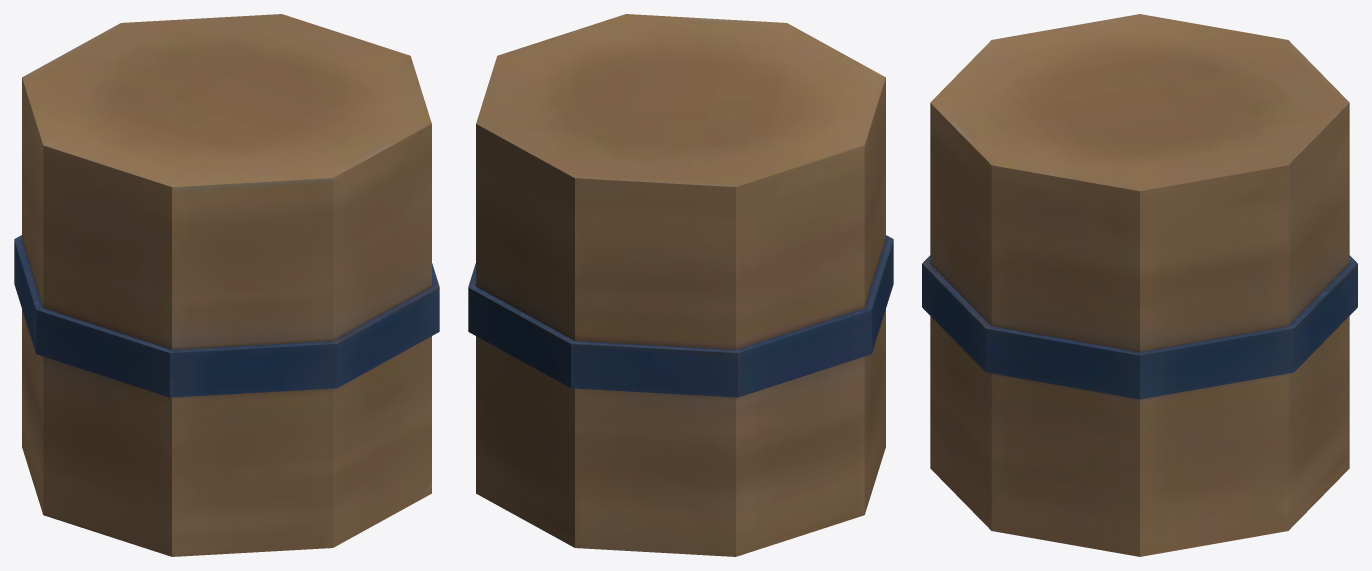
Rendered from life-tool-barrel.glb.
3 views of the same model, side by side, from view 1: azimuth 30°, elevation 25°; view 2: azimuth 150°, elevation 25°; view 3: azimuth 270°, elevation 25° (orthographic).
Parts seen in each view (by area): view 1: life-tool-barrel; view 2: life-tool-barrel; view 3: life-tool-barrel.
Part boxes in pixels (bbox=[...]): life-tool-barrel: bbox=[14, 14, 439, 556]; life-tool-barrel: bbox=[468, 14, 893, 556]; life-tool-barrel: bbox=[922, 14, 1357, 556].
Bounding box in the file's own units: 0.054 × 0.05 × 0.054.
1 material, 1 textured.
